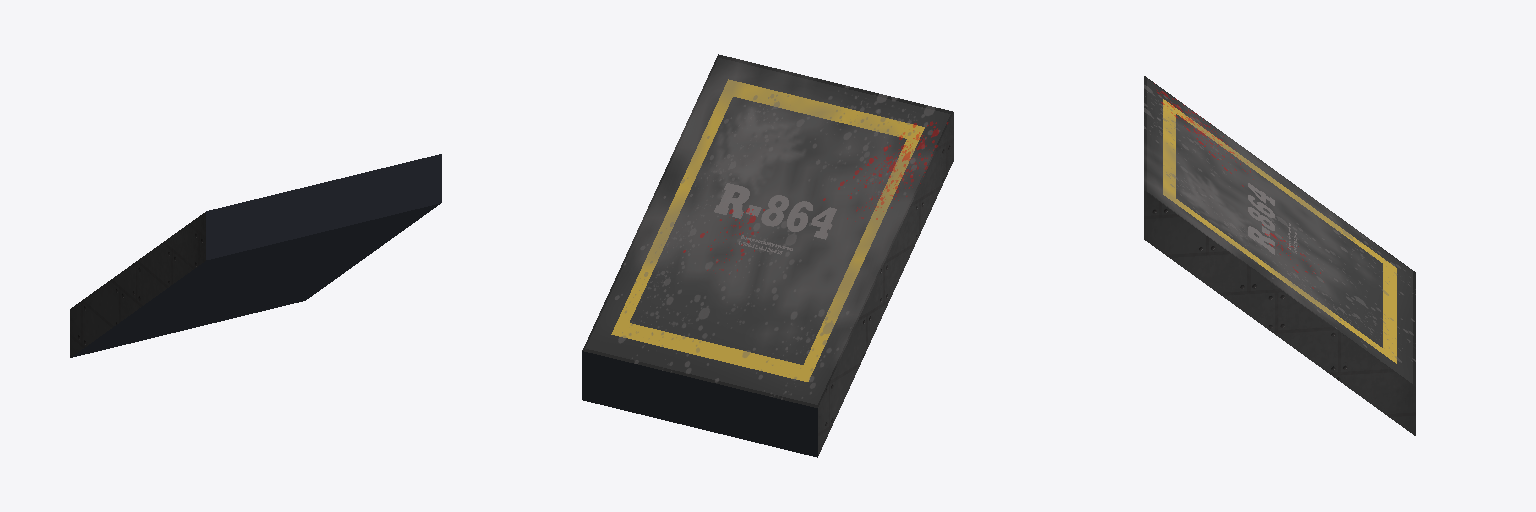
The picture shows the model from 3 angles: view 1: azimuth 30°, elevation 25°; view 2: azimuth 150°, elevation 25°; view 3: azimuth 270°, elevation 25°; orthographic projection.
Parts seen in each view (by area): view 1: ramp_tile_Cube.001; view 2: ramp_tile_Cube.001; view 3: ramp_tile_Cube.001.
Boxes of the visible parts, x1=… form: ramp_tile_Cube.001: x1=70, y1=154, x2=441, y2=357; ramp_tile_Cube.001: x1=582, y1=54, x2=953, y2=457; ramp_tile_Cube.001: x1=1144, y1=76, x2=1415, y2=435.
Size of the model in its own units: 2 by 2 by 2.
3 materials, 2 textured.